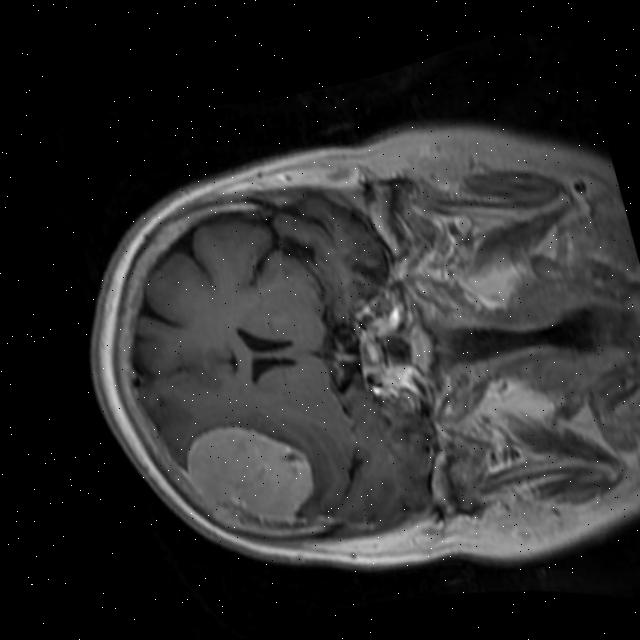Meningioma: (173, 401, 330, 545)
